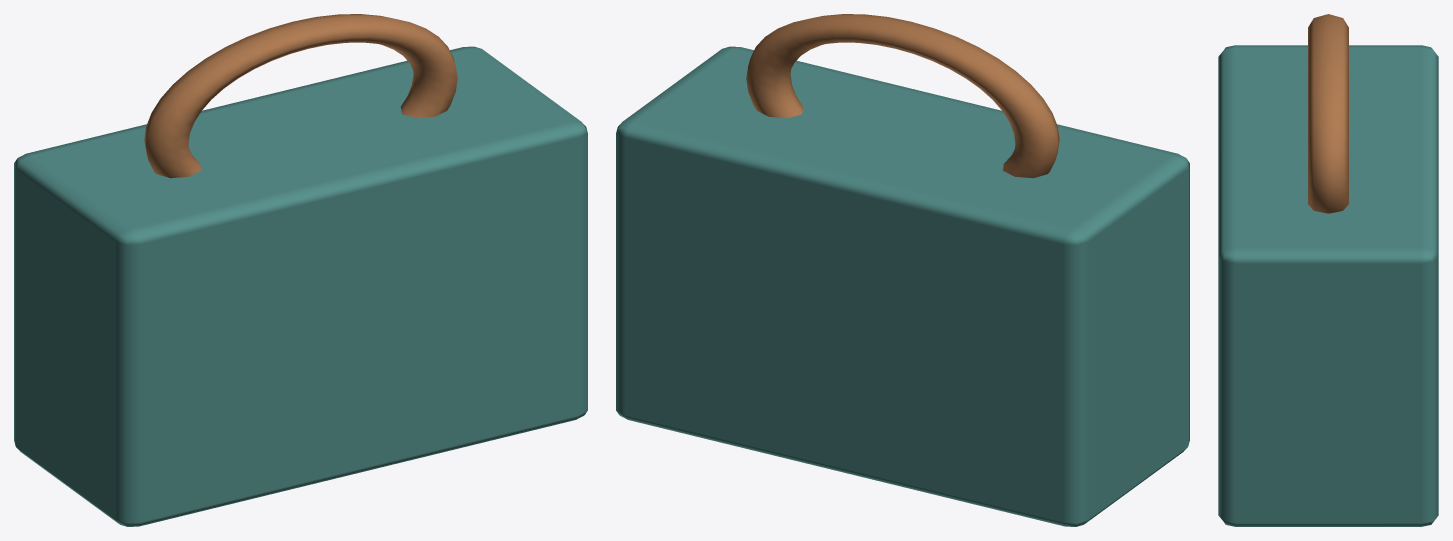
The model's file is wp-sac-a-main.glb.
3 renders of one model, left to right at view 1: azimuth 30°, elevation 25°; view 2: azimuth 150°, elevation 25°; view 3: azimuth 270°, elevation 25°, orthographic. The views are drawn at different scales.
Visible parts, largest first — view 1: wp-sac-a-main; view 2: wp-sac-a-main; view 3: wp-sac-a-main.
Boxes of the visible parts, bbox=[...] form: wp-sac-a-main: bbox=[14, 14, 587, 526]; wp-sac-a-main: bbox=[616, 14, 1189, 526]; wp-sac-a-main: bbox=[1218, 14, 1438, 526].
Bounding box in the file's own units: 0.3 × 0.25 × 0.13.
